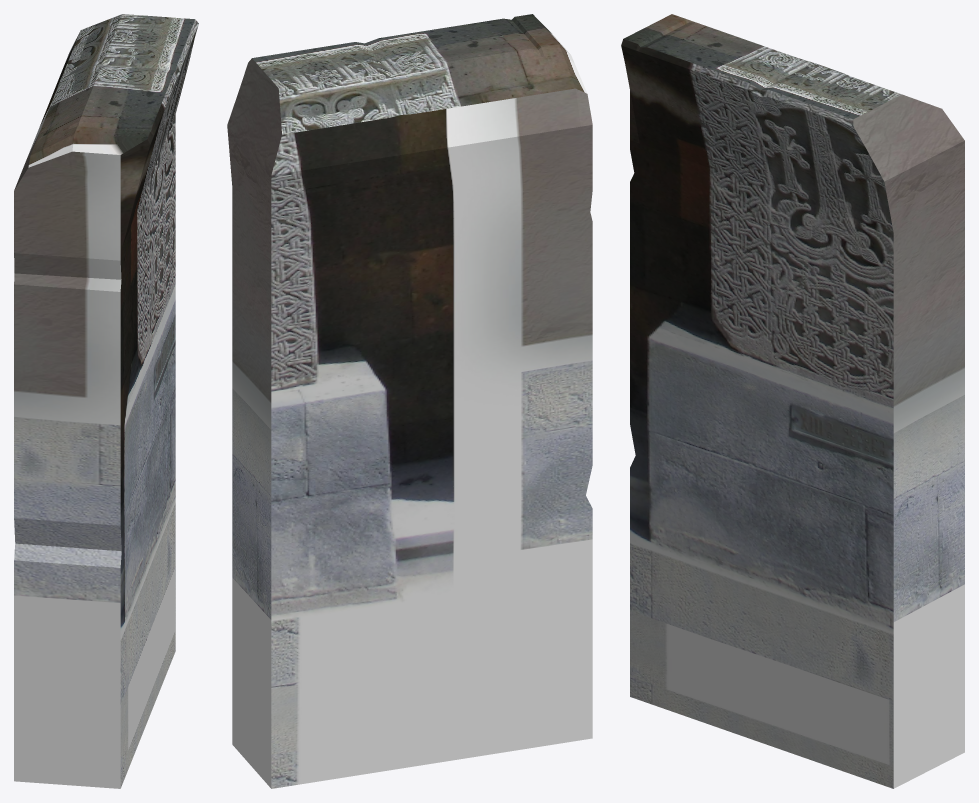
The model's file is Stone01.fbx.
3 views of the same model, side by side, from view 1: azimuth 30°, elevation 25°; view 2: azimuth 150°, elevation 25°; view 3: azimuth 270°, elevation 25° (orthographic). The views are drawn at different scales.
Visible parts, largest first — view 1: ShapeIndexedFaceSet.007; view 2: ShapeIndexedFaceSet.007; view 3: ShapeIndexedFaceSet.007.
Boxes of the visible parts, x1,y1,x2,y2 form: ShapeIndexedFaceSet.007: [14, 14, 198, 788]; ShapeIndexedFaceSet.007: [227, 14, 592, 788]; ShapeIndexedFaceSet.007: [621, 14, 964, 788].
Size of the model in its own units: 74.61 by 175 by 81.34.
